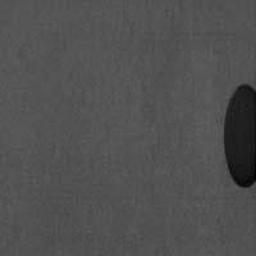Punching: (223, 83, 256, 189)
